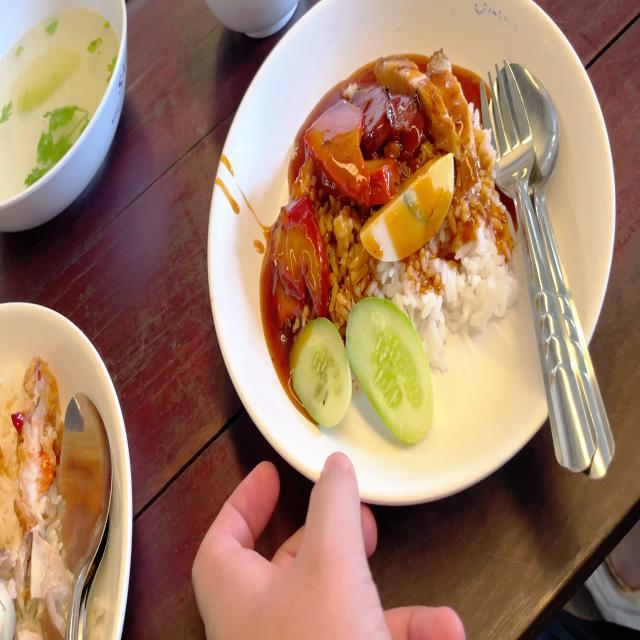boiled_chicken: (3, 529, 73, 640)
boiled_egg: (360, 152, 456, 266)
chainese_sausage: (361, 82, 420, 156)
chicken_rice: (0, 352, 86, 640)
crispy_pork: (378, 50, 478, 172)
cucumber: (346, 298, 437, 447), (287, 316, 350, 426)
fried_chicken: (14, 345, 62, 528)
red_pork: (305, 95, 369, 200), (277, 192, 329, 314)
red_pork_and_crispy_pork: (276, 46, 526, 439)
